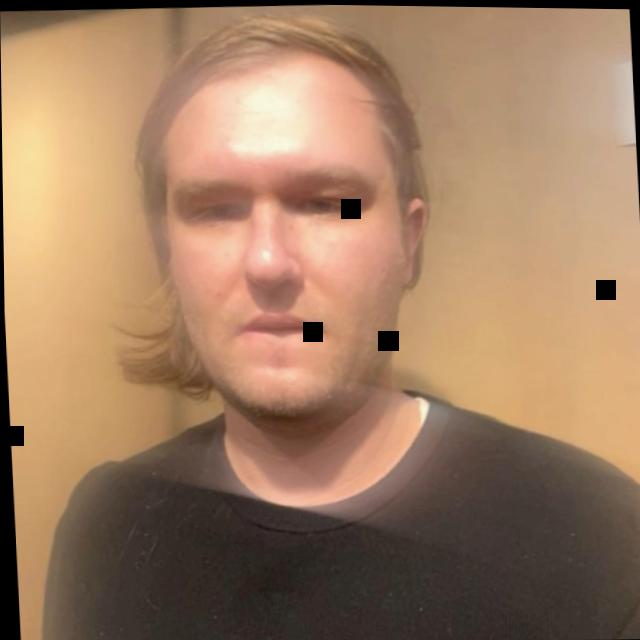NO-Mask: (84, 1, 453, 531)
